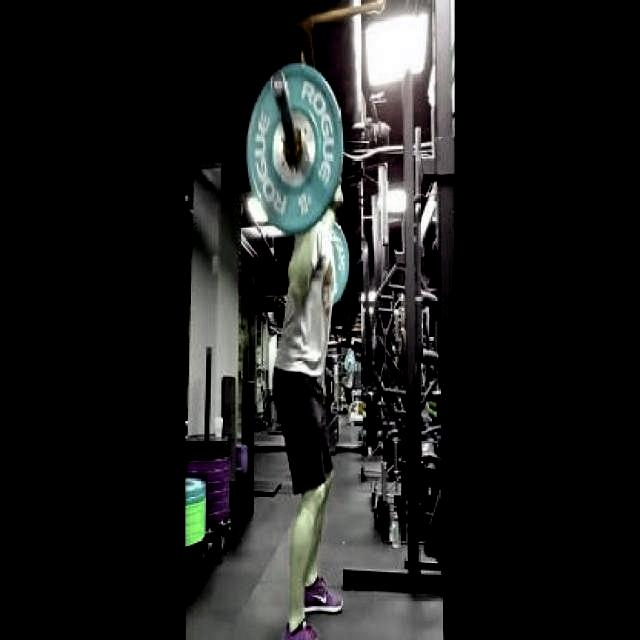barbell: (228, 60, 347, 237)
